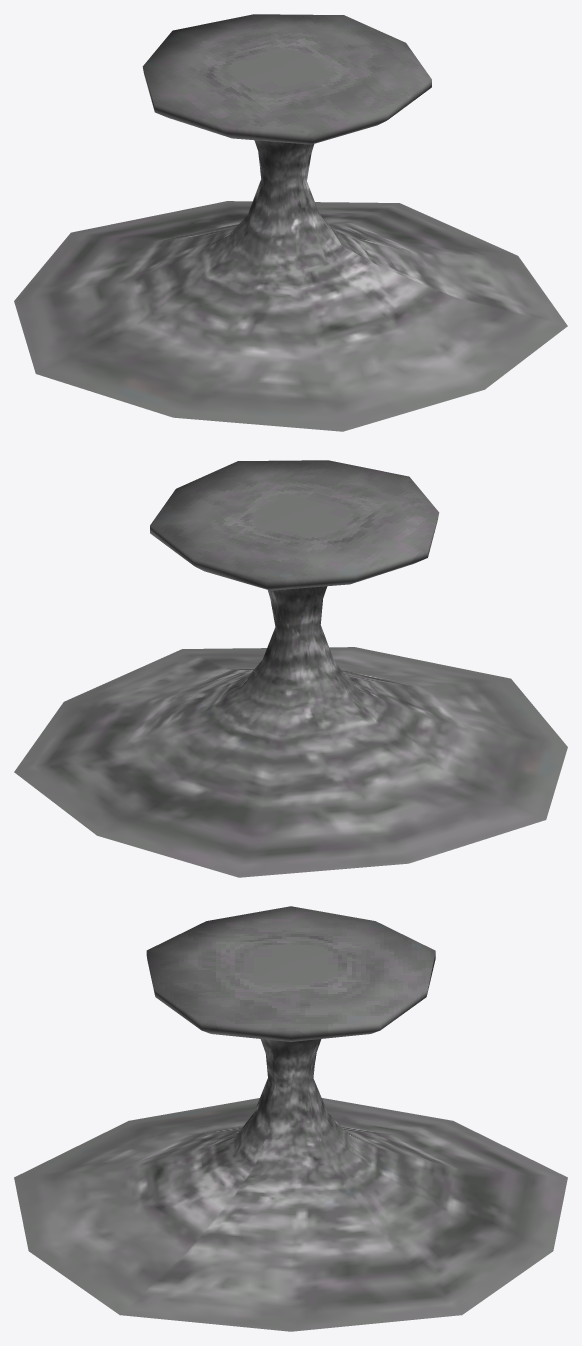
File: INST_SWORDLIGHT_RINGPLATFORM.fbx
3 renders of one model, top to bottom at view 1: azimuth 30°, elevation 25°; view 2: azimuth 150°, elevation 25°; view 3: azimuth 270°, elevation 25°, orthographic.
Visible parts, largest first — view 1: INST_SWORDLIGHT_RINGPLATFORM; view 2: INST_SWORDLIGHT_RINGPLATFORM; view 3: INST_SWORDLIGHT_RINGPLATFORM.
Boxes of the visible parts, x1,y1,x2,y2 form: INST_SWORDLIGHT_RINGPLATFORM: [14, 14, 567, 431]; INST_SWORDLIGHT_RINGPLATFORM: [14, 460, 567, 877]; INST_SWORDLIGHT_RINGPLATFORM: [14, 906, 567, 1331].
Size of the model in its own units: 17770 by 8604 by 17357.
2 materials, 2 textured.
